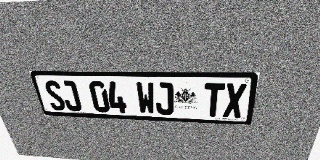0: (88, 81, 110, 113)
4: (105, 81, 127, 113)
J: (59, 81, 83, 111), (154, 82, 174, 115)
S: (43, 80, 67, 111)
T: (203, 83, 225, 117)
W: (135, 82, 156, 114)
X: (223, 83, 247, 118)
